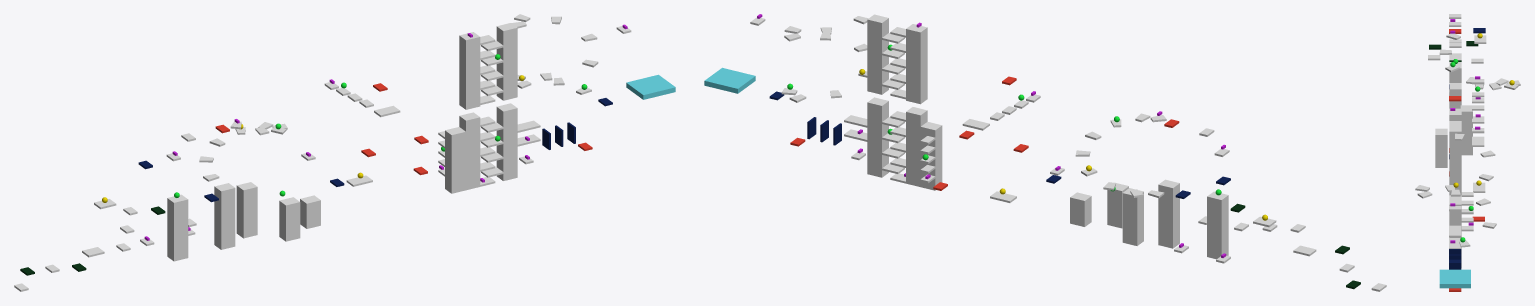
The model's file is nivel.fbx.
3 views of the same model, side by side, from view 1: azimuth 30°, elevation 25°; view 2: azimuth 150°, elevation 25°; view 3: azimuth 270°, elevation 25° (orthographic). The views are drawn at different scales.
Parts seen in each view (by area): view 1: Cube.032; view 2: Cube.032; view 3: Cube.032.
Boxes of the visible parts, x1=… form: Cube.032: x1=14, y1=14, x2=675, y2=291; Cube.032: x1=704, y1=14, x2=1386, y2=291; Cube.032: x1=1415, y1=14, x2=1520, y2=291.
Bounding box in the file's own units: 16745 × 3776 × 2577.
